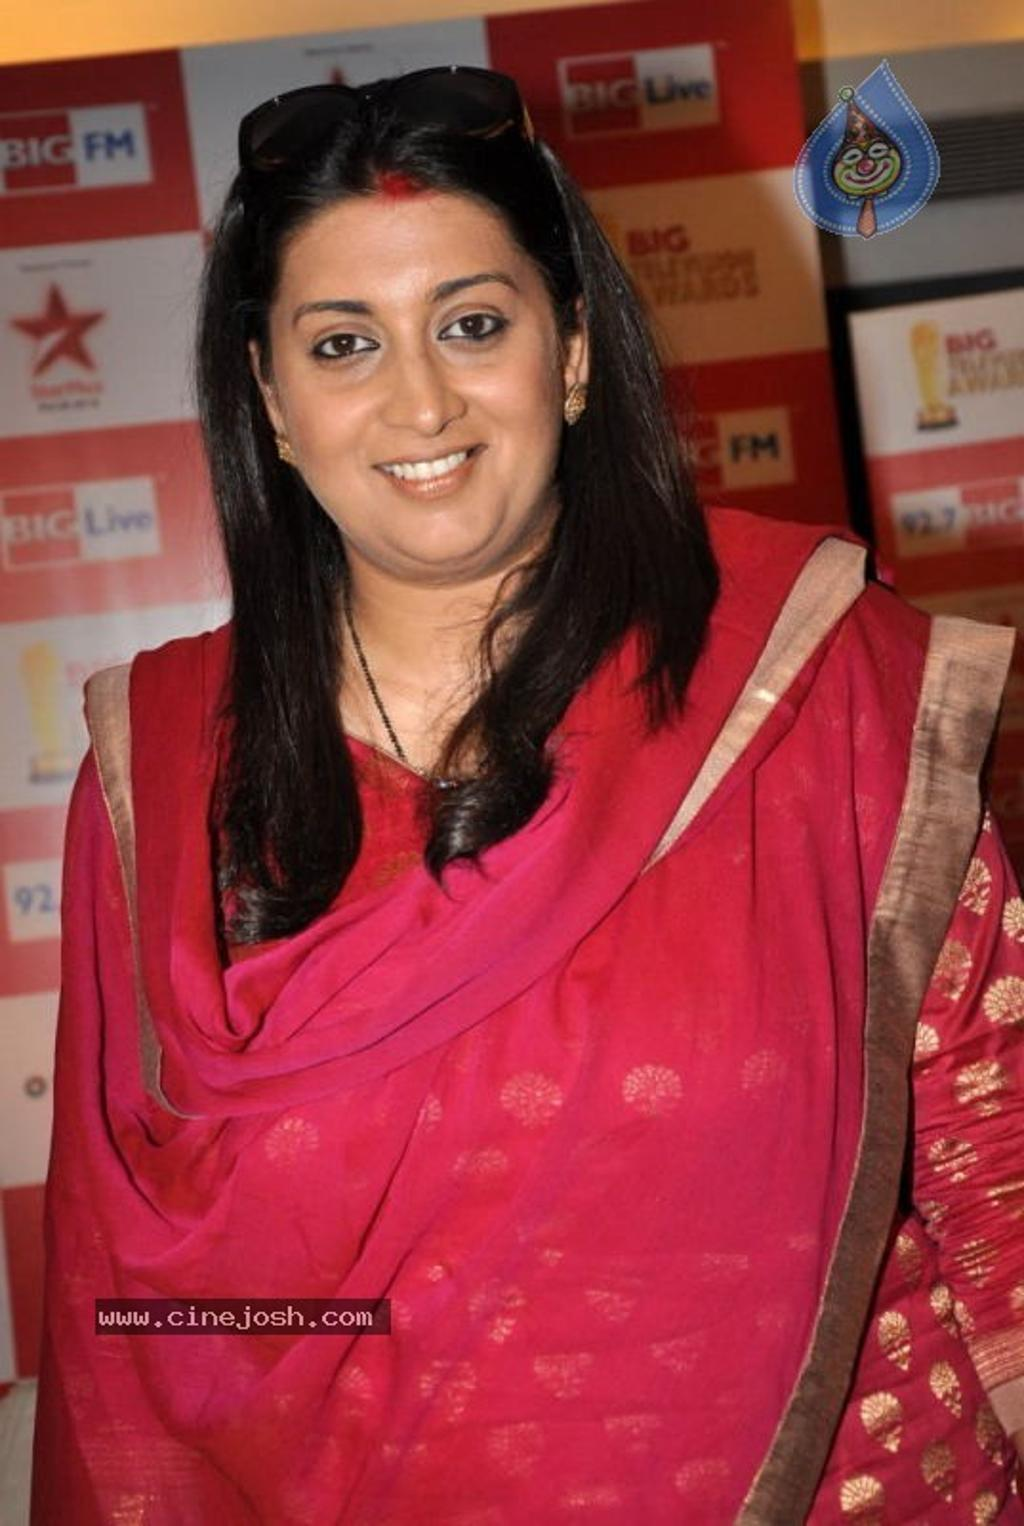face: (275, 197, 561, 572)
